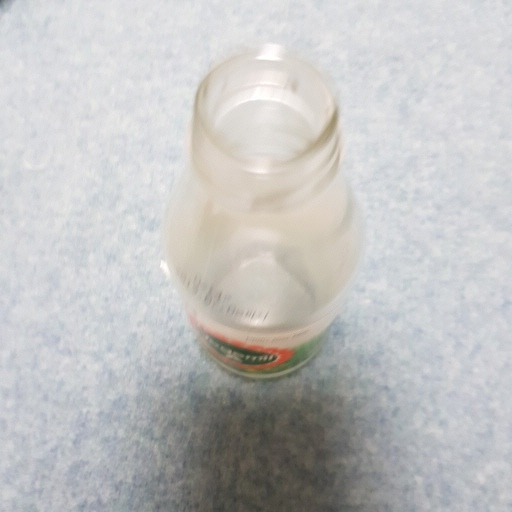Glass_4: (156, 48, 371, 384)
